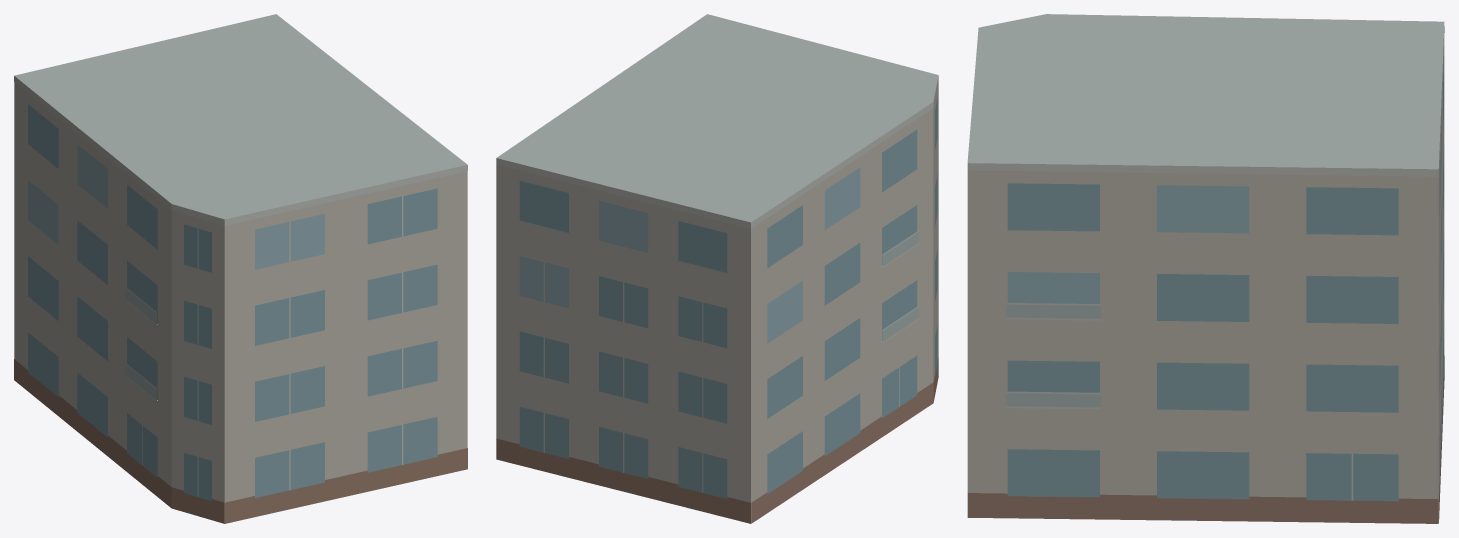
Rendered from survey-upis-32835344.glb.
The picture shows the model from 3 angles, left to right: view 1: azimuth 30°, elevation 25°; view 2: azimuth 150°, elevation 25°; view 3: azimuth 270°, elevation 25°; orthographic projection. The views are drawn at different scales.
Visible parts, largest first — view 1: survey-upis-32835344.tmp; view 2: survey-upis-32835344.tmp; view 3: survey-upis-32835344.tmp.
Part boxes in pixels (left/top/right/bottom): survey-upis-32835344.tmp: left=14, top=14, right=467, bottom=523; survey-upis-32835344.tmp: left=496, top=14, right=938, bottom=523; survey-upis-32835344.tmp: left=967, top=14, right=1444, bottom=523.
Bounding box in the file's own units: 11.09 × 11.8 × 14.4.
